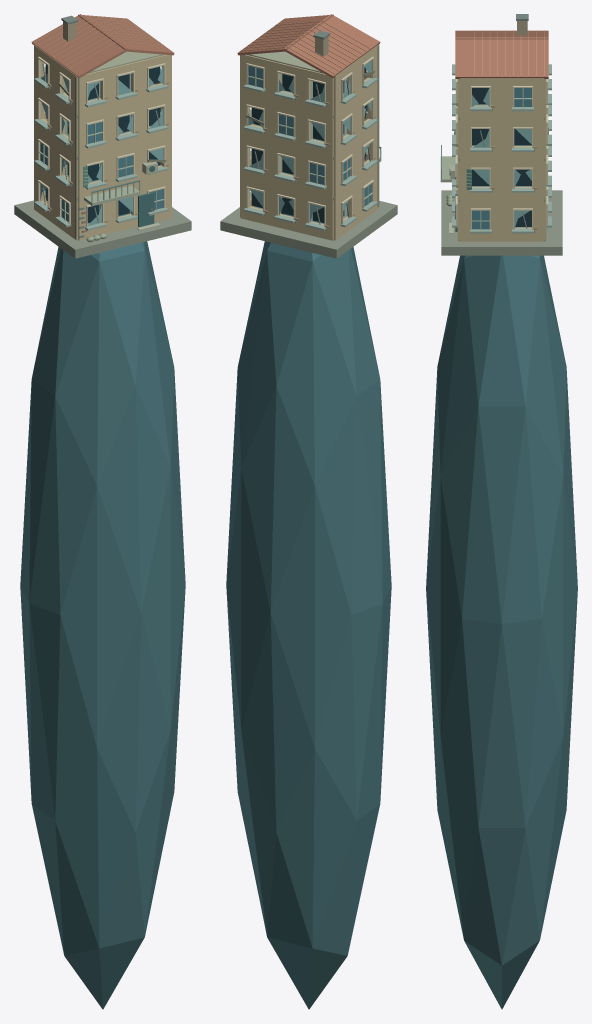
The model's file is house_06.glb.
3 renders of one model, left to right at view 1: azimuth 30°, elevation 25°; view 2: azimuth 150°, elevation 25°; view 3: azimuth 270°, elevation 25°, orthographic.
Parts seen in each view (by area): view 1: house_06; view 2: house_06; view 3: house_06.
Boxes of the visible parts, <box> form: house_06: <box>14,14,191,1009</box>; house_06: <box>220,14,397,1009</box>; house_06: <box>426,14,577,1009</box>.
Bounding box in the file's own units: 12 × 77.03 × 10.8.
